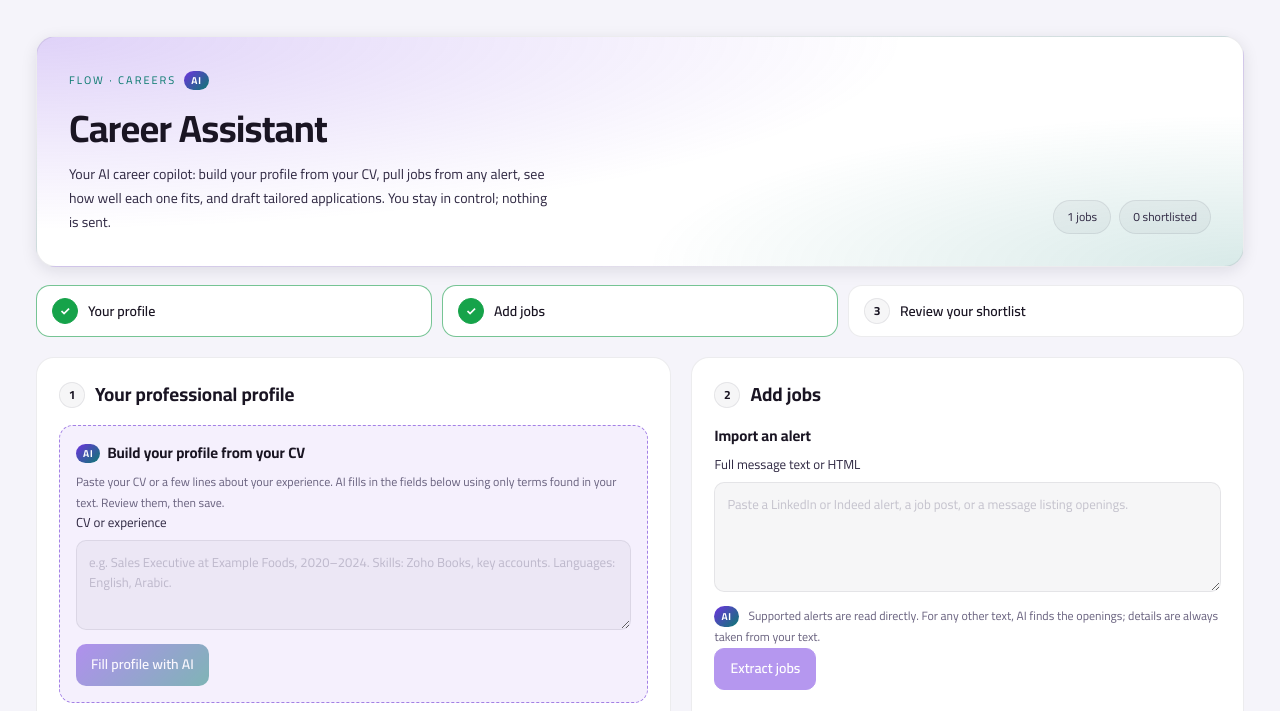
it: Career assistant › imports pasted alert text and displays the added count
The width and height of the screenshot is (1280, 711).
Replace the text in the text box labelled "Full message text or HTML" with "alert body with direct links". click: (968, 537)
box: [714,482,1221,592]
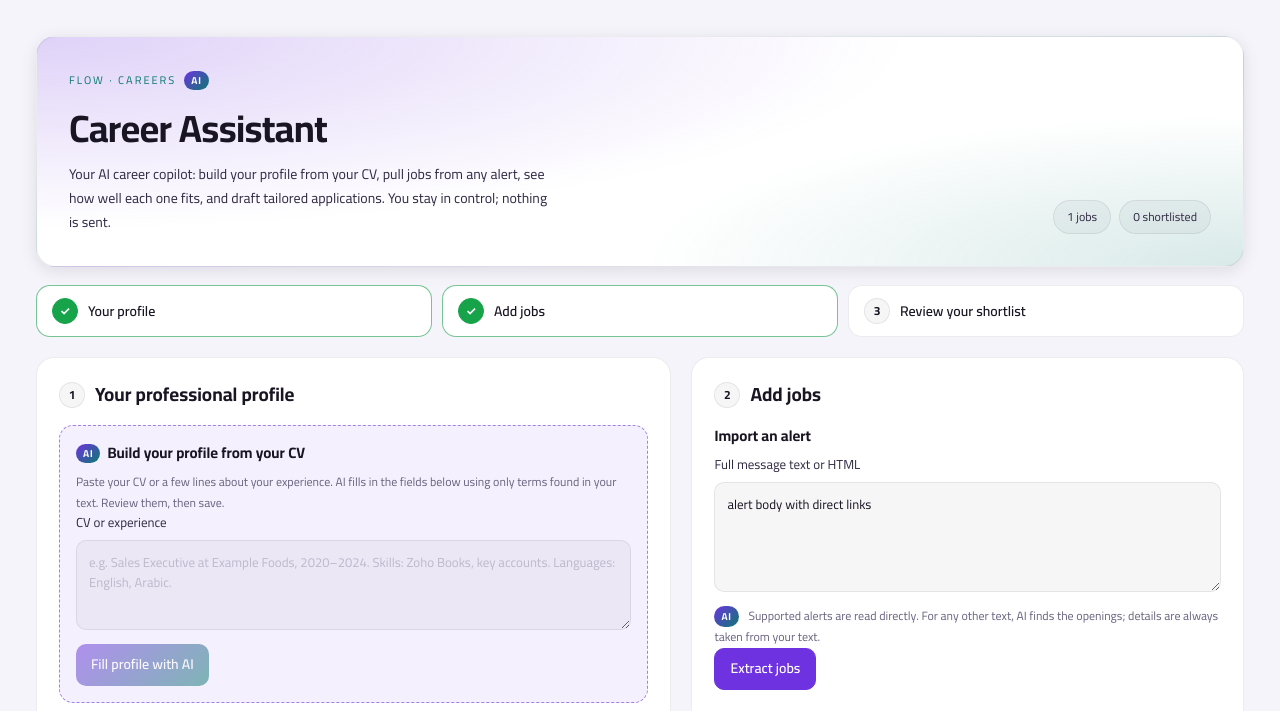
Click the button "Extract jobs". click: (765, 669)
box: [714,648,816,690]
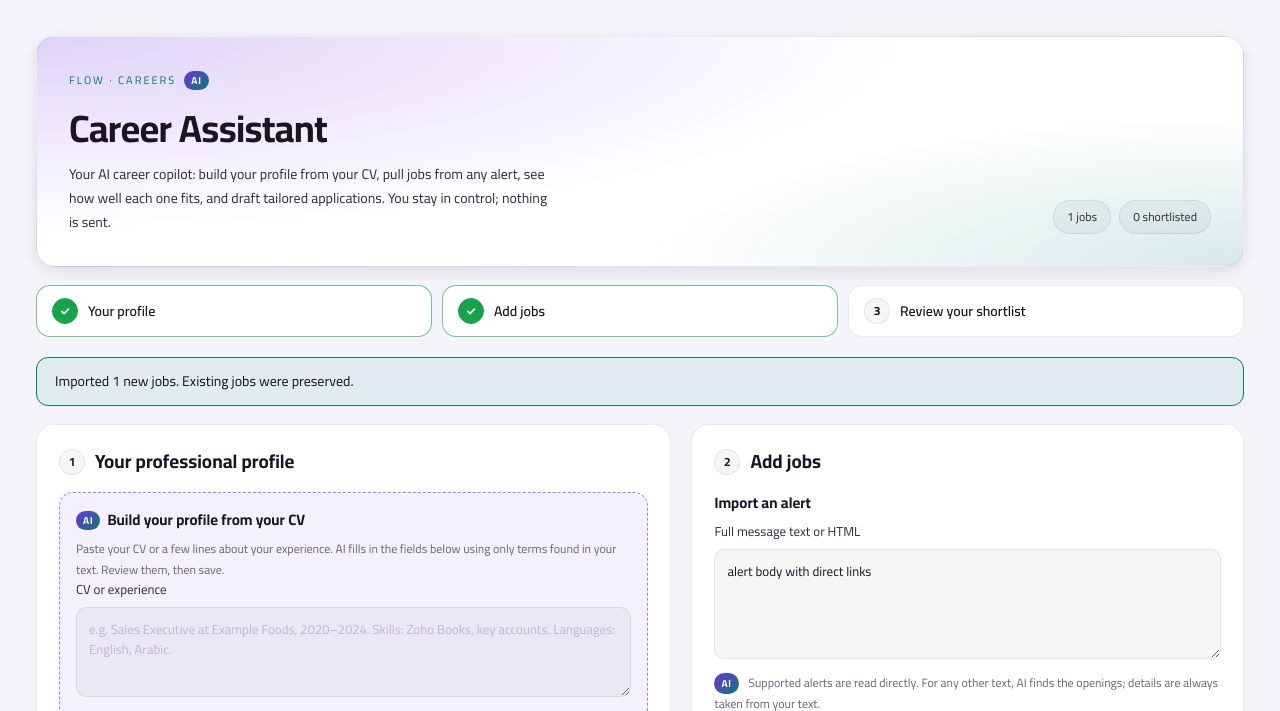
Expected: the text "Imported 1 new jobs. Existing jobs were preserved." is shown, [36,357,1244,406]
